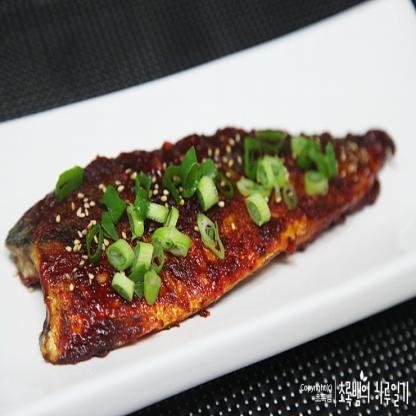Peixe: (8, 120, 392, 380)
